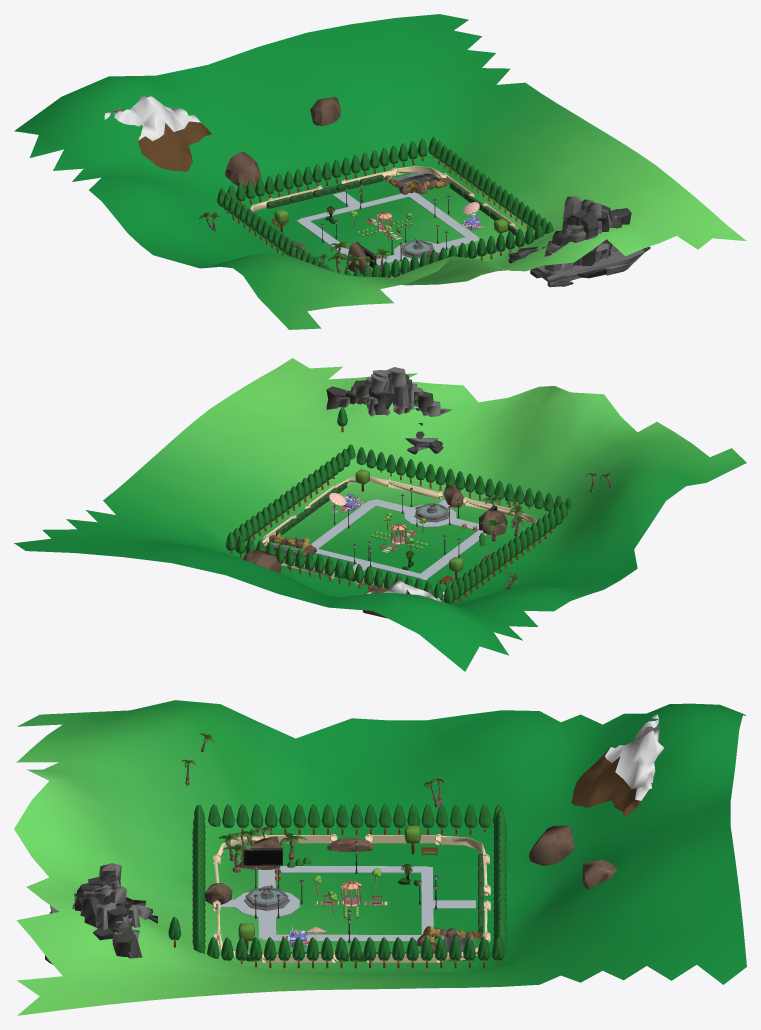
The model's file is park_scene_c.glb.
3 renders of one model, top to bottom at view 1: azimuth 30°, elevation 25°; view 2: azimuth 150°, elevation 25°; view 3: azimuth 270°, elevation 25°, orthographic. The views are drawn at different scales.
Visible parts, largest first — view 1: infrastructure-building-park.002, Cylinder_path_0, Cube.031_Cube.1206_green_0; view 2: infrastructure-building-park.002, Cylinder_path_0, Cube.031_Cube.1206_green_0, Icosphere.014_lowpolytex_0, volpe_Material.001_0; view 3: infrastructure-building-park.002, Cylinder_path_0, volpe_Material.001_0, Icosphere.014_lowpolytex_0, screen frame_screen frame_0, Cube.031_Cube.1206_green_0, Object_133, Pirate_Scene_Main_0012:Cube.001_pasted__StingrayPBS6_0.
Part boxes in pixels (x1,y1,x2,y2): infrastructure-building-park.002: (14,14,746,329); Cylinder_path_0: (295,191,478,267); Cube.031_Cube.1206_green_0: (266,174,516,235); infrastructure-building-park.002: (14,358,746,671); Cylinder_path_0: (311,499,487,579); Cube.031_Cube.1206_green_0: (276,482,374,581); Icosphere.014_lowpolytex_0: (333,487,460,585); volpe_Material.001_0: (414,502,449,522); infrastructure-building-park.002: (14,700,746,1015); Cylinder_path_0: (220,866,475,941); volpe_Material.001_0: (244,885,289,910); Icosphere.014_lowpolytex_0: (254,841,437,942); screen frame_screen frame_0: (243,847,282,865); Cube.031_Cube.1206_green_0: (246,853,483,961); Object_133: (238,825,420,940); Pirate_Scene_Main_0012:Cube.001_pasted__StingrayPBS6_0: (327,837,374,851).
Bounding box in the file's own units: 134 × 22.44 × 142.
Materials: 27 (16 with a texture image).
